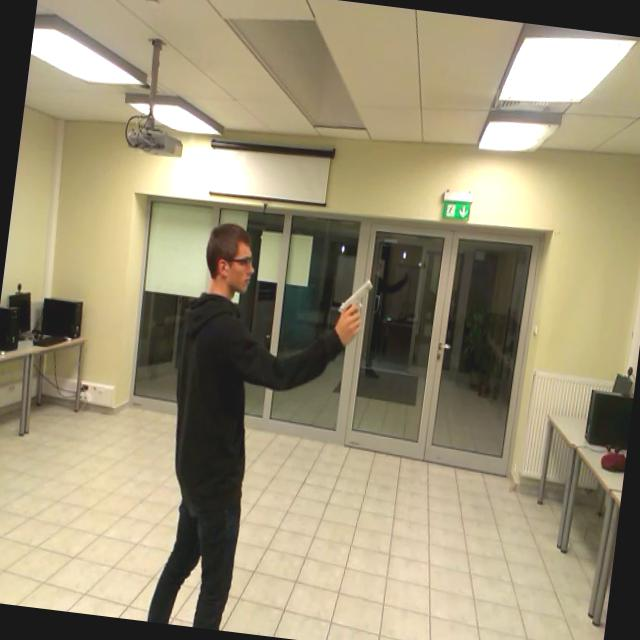handgun: (328, 262, 387, 356)
